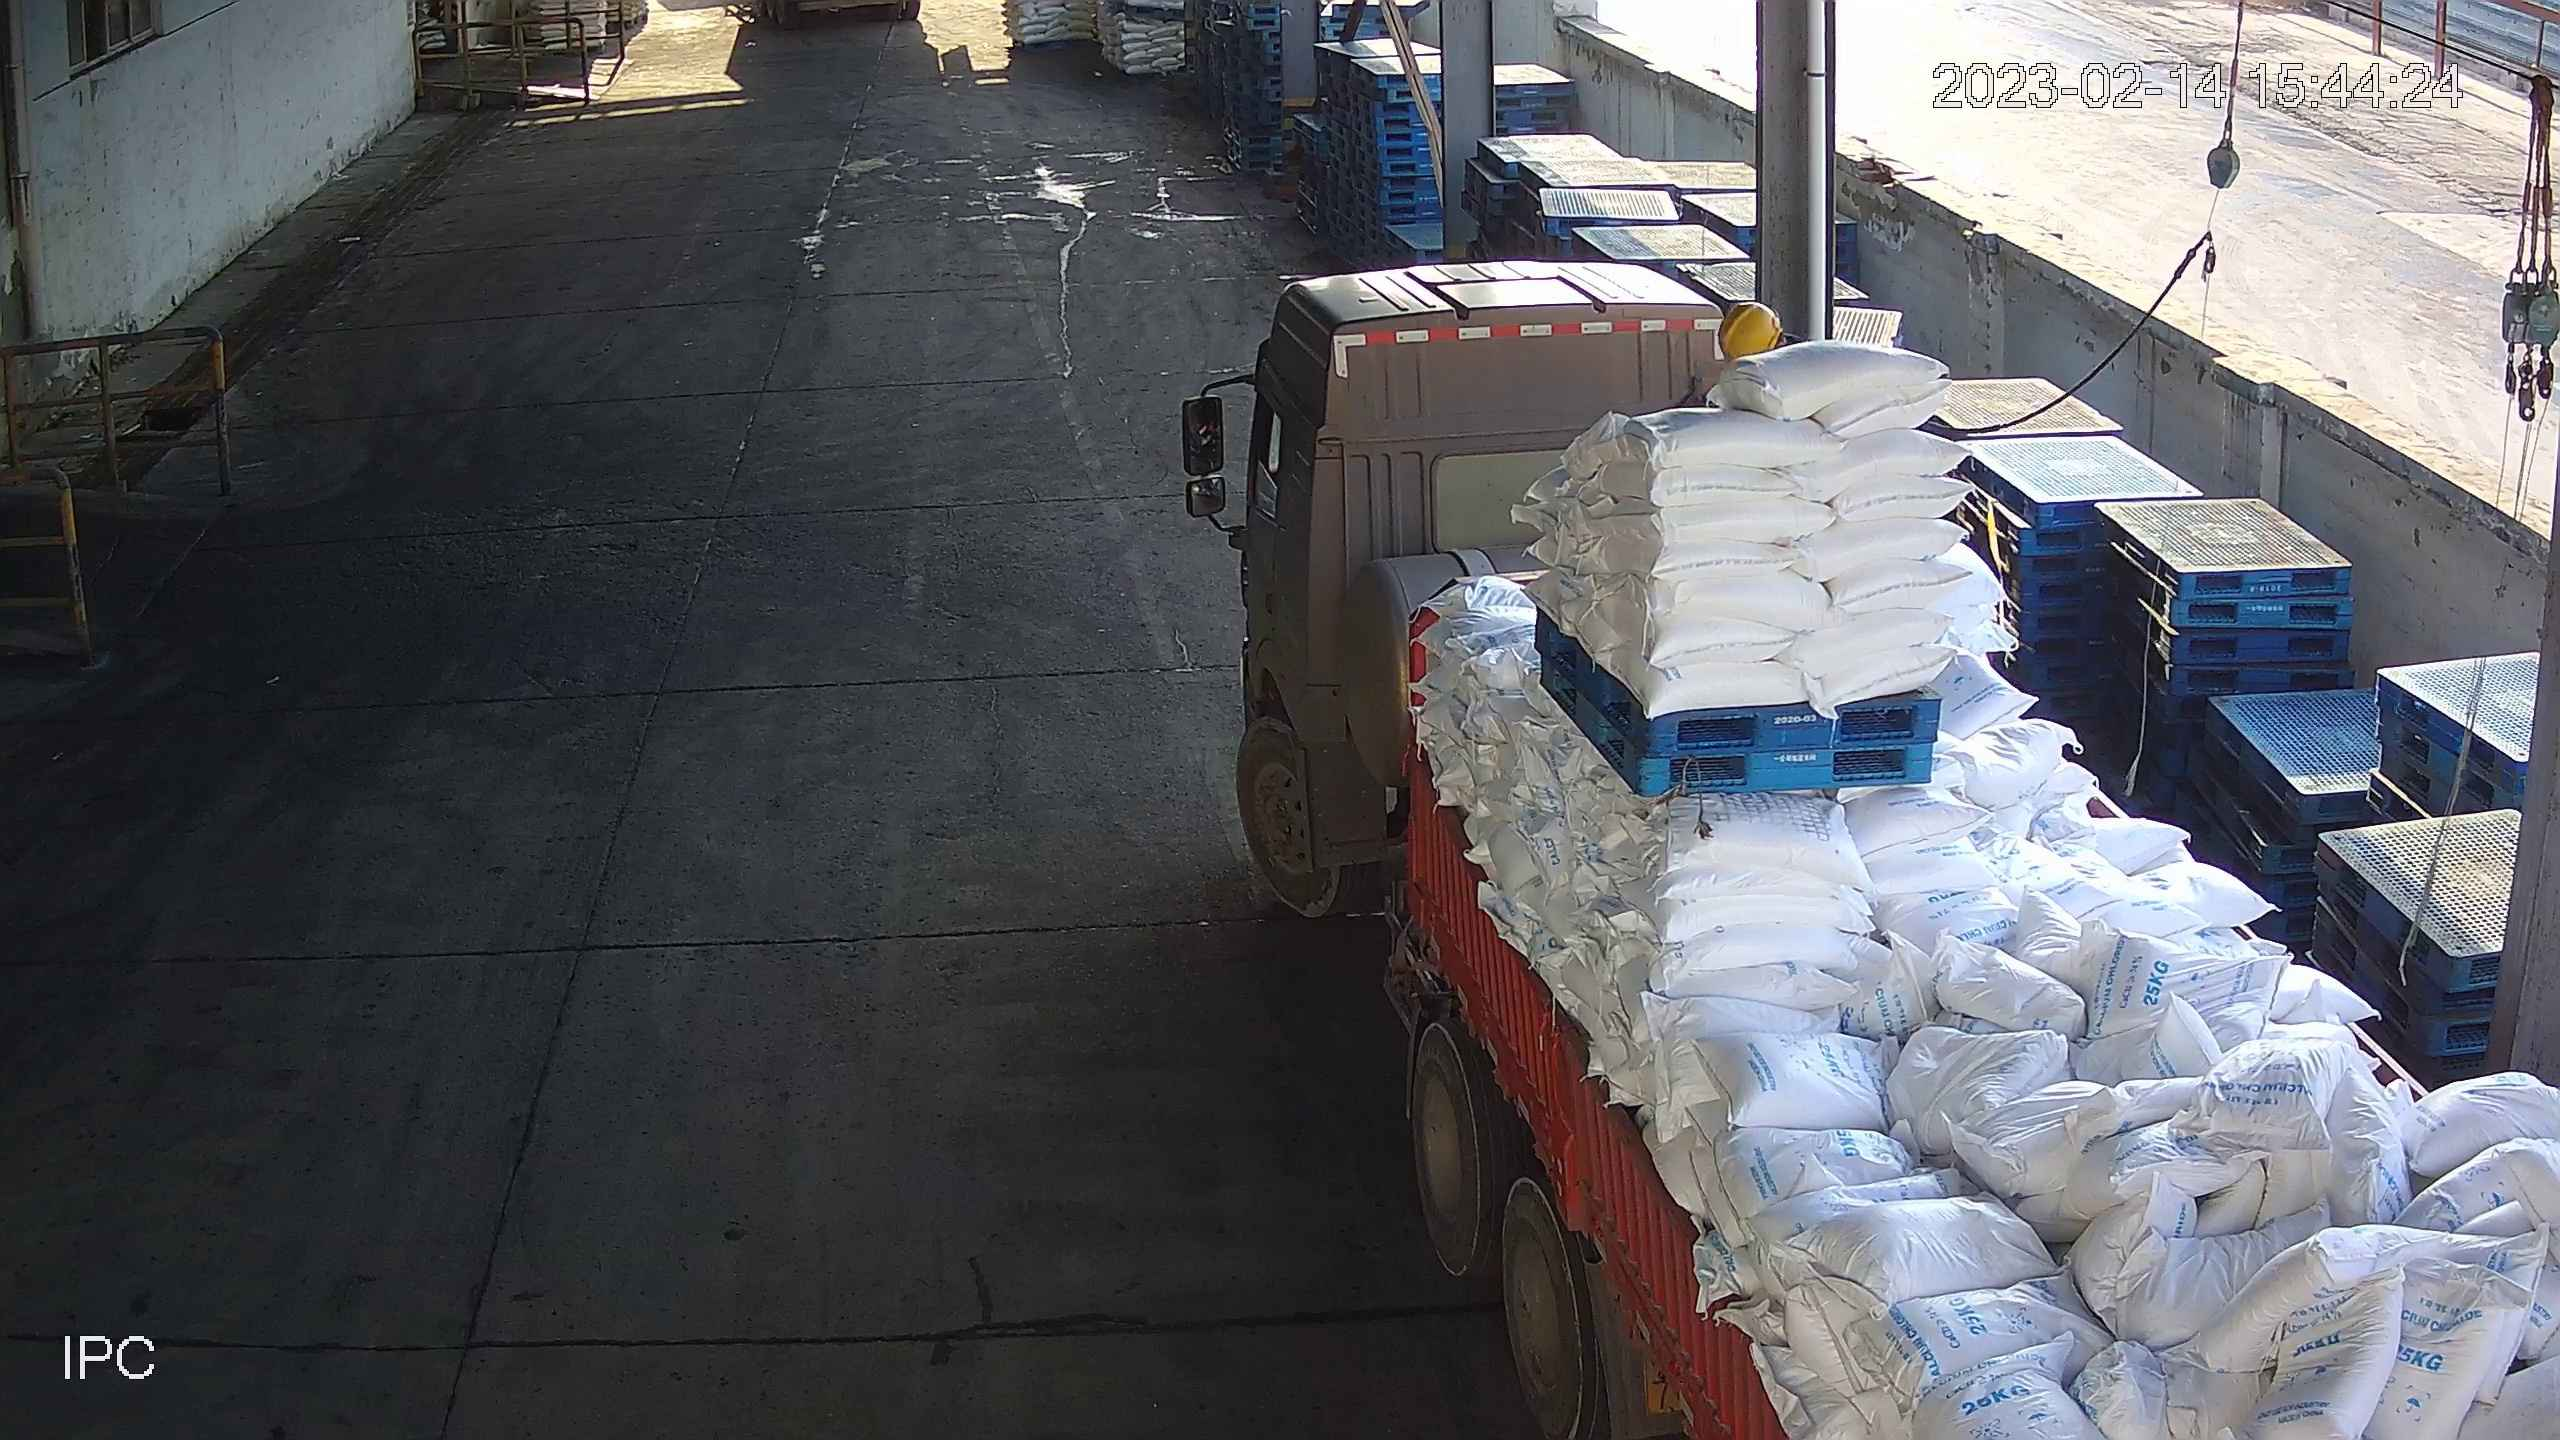helmet: (1716, 301, 1776, 350)
truck: (1182, 260, 2560, 1440)
